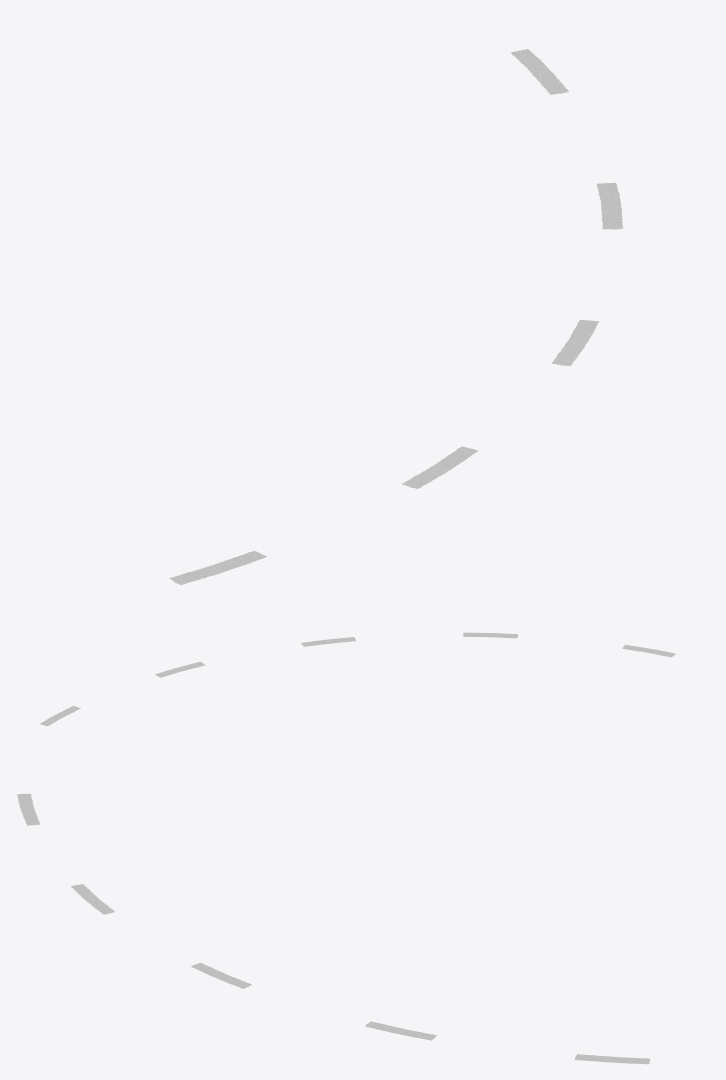
The model's file is Decal_Curve_4LaneShort.glb.
3 views of the same model, one above another, from view 1: azimuth 30°, elevation 25°; view 2: azimuth 150°, elevation 25°; view 3: azimuth 270°, elevation 25° (orthographic). The views are drawn at different scales.
Visible parts, largest first — view 1: Decal_Curve_4LaneShort; view 2: Decal_Curve_4LaneShort; view 3: Decal_Curve_4LaneShort.
Part boxes in pixels (left/top/right/bottom): Decal_Curve_4LaneShort: left=169, top=49, right=622, bottom=584; Decal_Curve_4LaneShort: left=40, top=632, right=675, bottom=726; Decal_Curve_4LaneShort: left=17, top=794, right=649, bottom=1064.
Size of the model in its own units: 9.1 by 0 by 9.1.
Materials: 1 (1 with a texture image).
